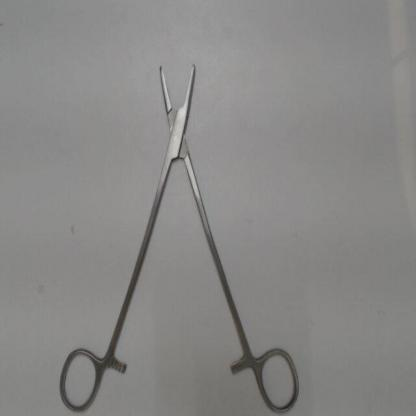8 Mayo Needle Holder: (54, 52, 304, 415)
